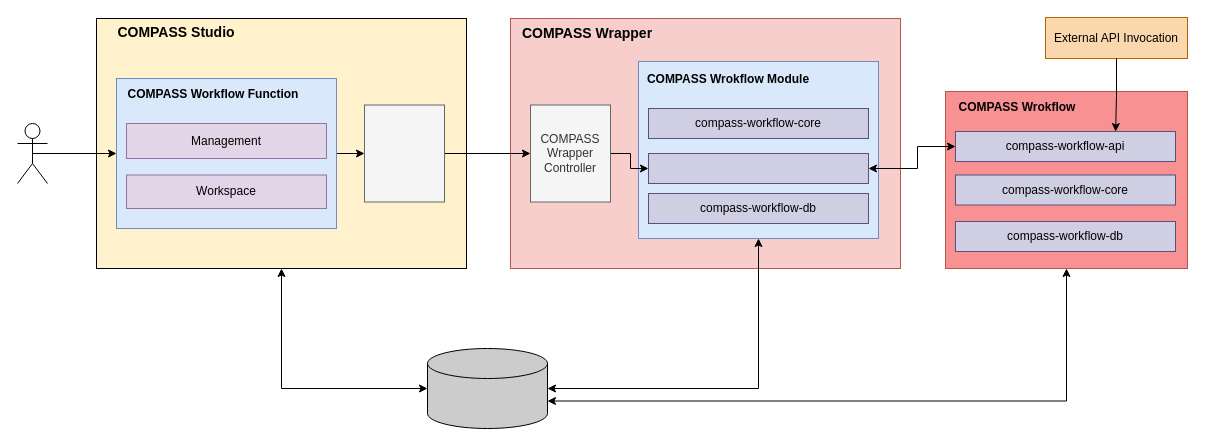
Image size: 1205x446. Some labels were removed from this diagram. Here are the shapes that lost their labels. From the top down, the box of each, then its label:
(16, 122, 48, 184): User
(364, 104, 444, 202): COMPASS Studio Integration Server
(648, 152, 868, 184): wrapper-integration-for-workflow
(426, 348, 548, 428): SQL Server / MySQL / PostgreSQL
